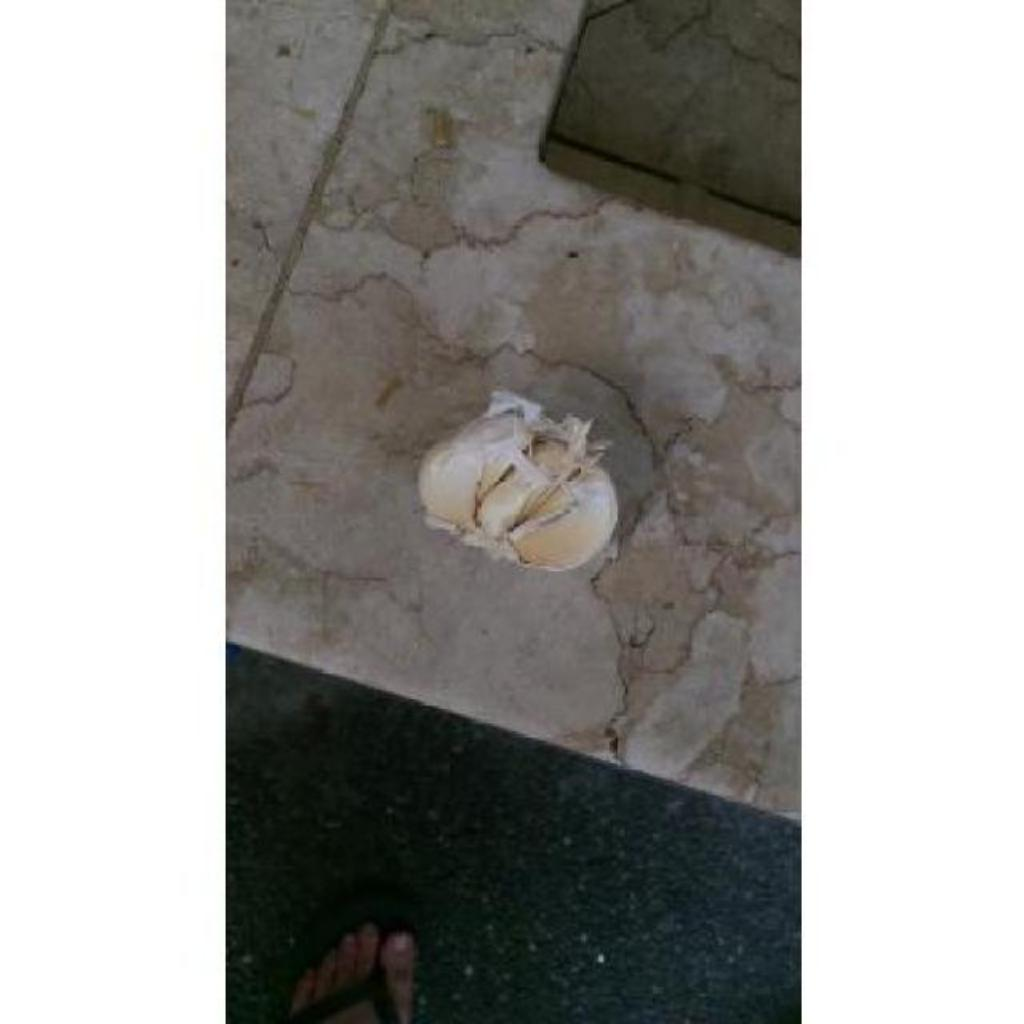garlic: (418, 392, 616, 571)
